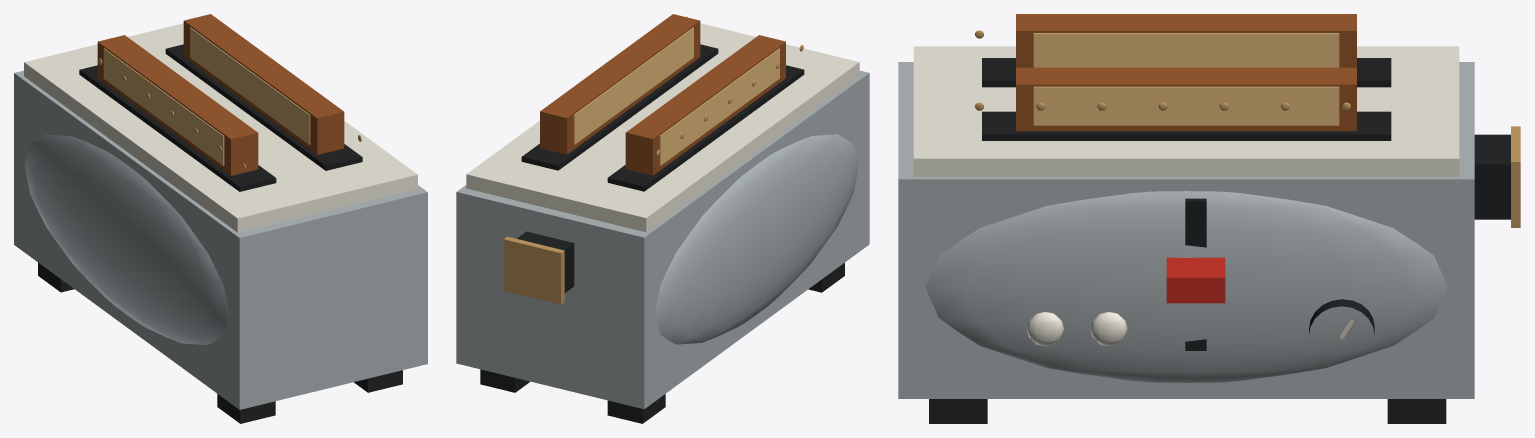
The model's file is toaster.glb.
The picture shows the model from 3 angles, left to right: view 1: azimuth 30°, elevation 25°; view 2: azimuth 150°, elevation 25°; view 3: azimuth 270°, elevation 25°; orthographic projection. The views are drawn at different scales.
Parts seen in each view (by area): view 1: MWC_toaster; view 2: MWC_toaster; view 3: MWC_toaster.
Boxes of the visible parts, x1,y1,x2,y2 form: MWC_toaster: (14, 14, 427, 423); MWC_toaster: (456, 14, 869, 423); MWC_toaster: (898, 14, 1520, 423).
Size of the model in its own units: 0.153 by 0.152 by 0.2645.
1 material, 1 textured.
